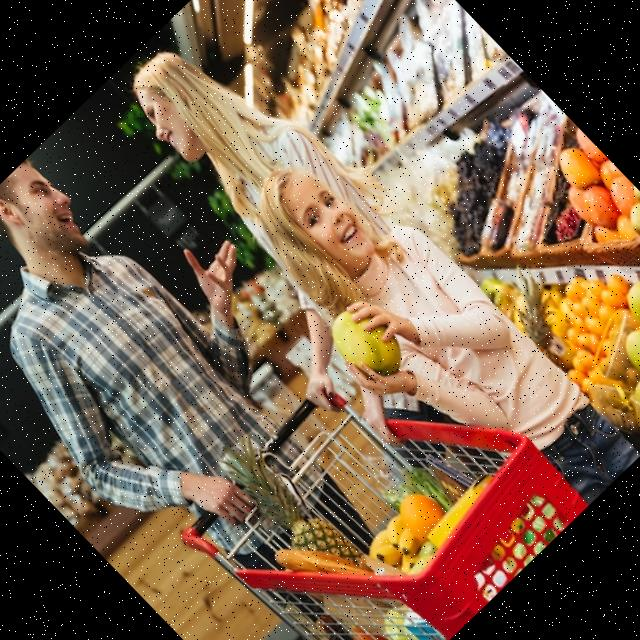Person: (0, 96, 455, 640), (63, 12, 511, 466), (209, 122, 640, 563)
